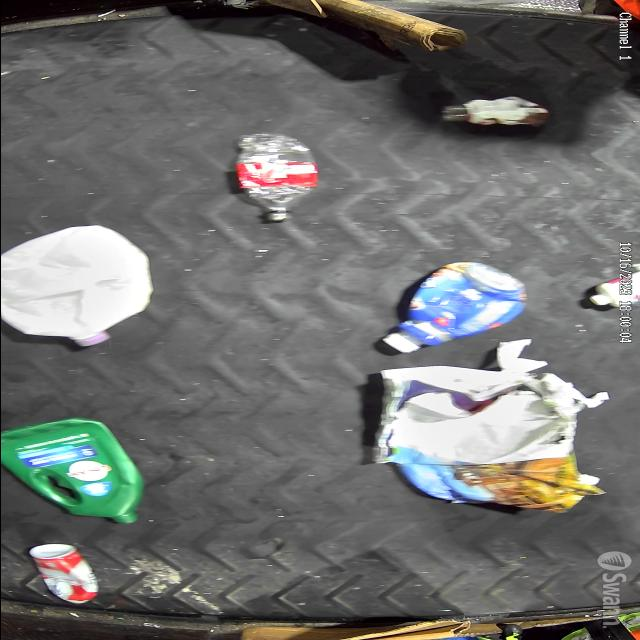can: (26, 544, 98, 604)
milk_jug: (0, 225, 152, 347)
non_white_jug: (0, 418, 145, 524), (382, 262, 526, 354)
plastic_bottle: (234, 133, 317, 222)
